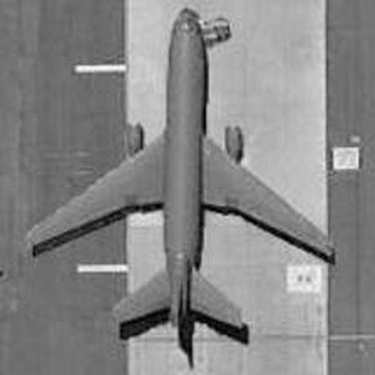airplane: (16, 6, 346, 356)
